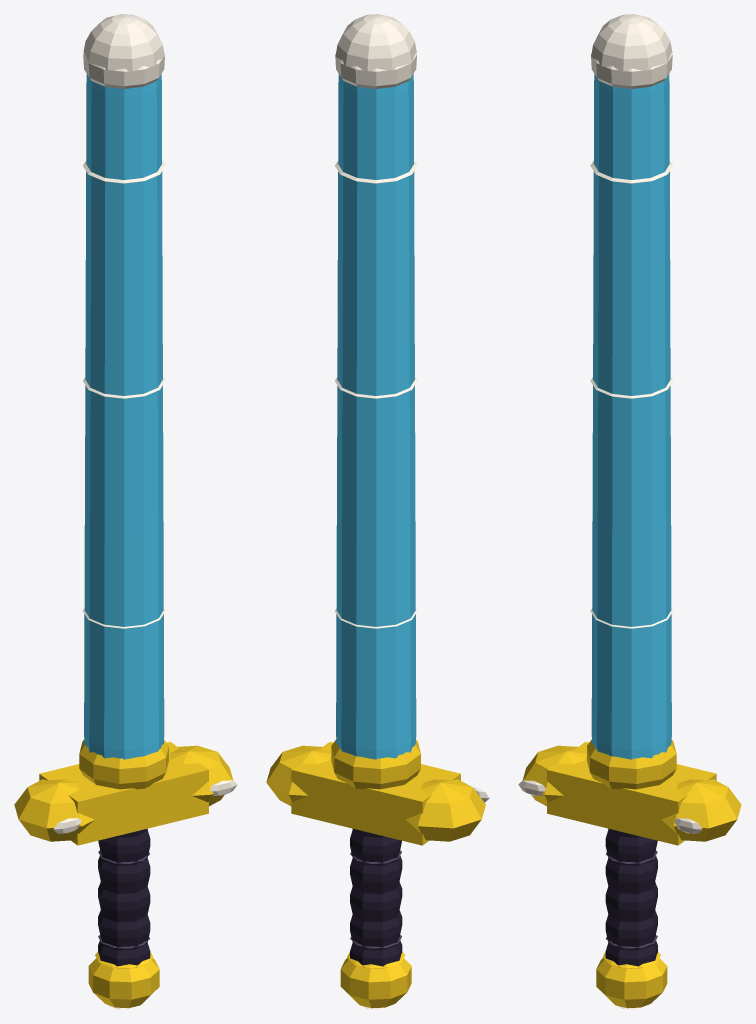
The model's file is sword.glb.
3 views of the same model, side by side, from view 1: azimuth 30°, elevation 25°; view 2: azimuth 150°, elevation 25°; view 3: azimuth 330°, elevation 25° (orthographic).
Visible parts, largest first — view 1: sword_foam, sword_accent, sword_safety_white, sword_grip_rubber; view 2: sword_foam, sword_accent, sword_grip_rubber, sword_safety_white; view 3: sword_foam, sword_accent, sword_safety_white, sword_grip_rubber.
Boxes of the visible parts, left/top/right/bottom form: sword_foam: left=84, top=74, right=164, bottom=759; sword_accent: left=14, top=739, right=232, bottom=1008; sword_safety_white: left=53, top=14, right=237, bottom=1009; sword_grip_rubber: left=98, top=828, right=150, bottom=967; sword_foam: left=336, top=74, right=416, bottom=759; sword_accent: left=266, top=739, right=485, bottom=1008; sword_grip_rubber: left=350, top=828, right=402, bottom=967; sword_safety_white: left=335, top=14, right=489, bottom=1009; sword_foam: left=591, top=74, right=671, bottom=759; sword_accent: left=523, top=739, right=741, bottom=1008; sword_safety_white: left=518, top=14, right=702, bottom=1009; sword_grip_rubber: left=605, top=828, right=657, bottom=967.
Size of the model in its own units: 0.298 by 1.33 by 0.1123.
